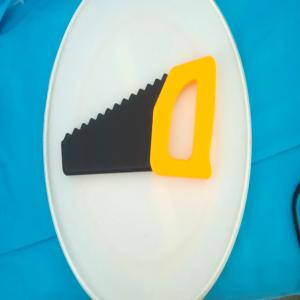serrote: (60, 55, 217, 180)
